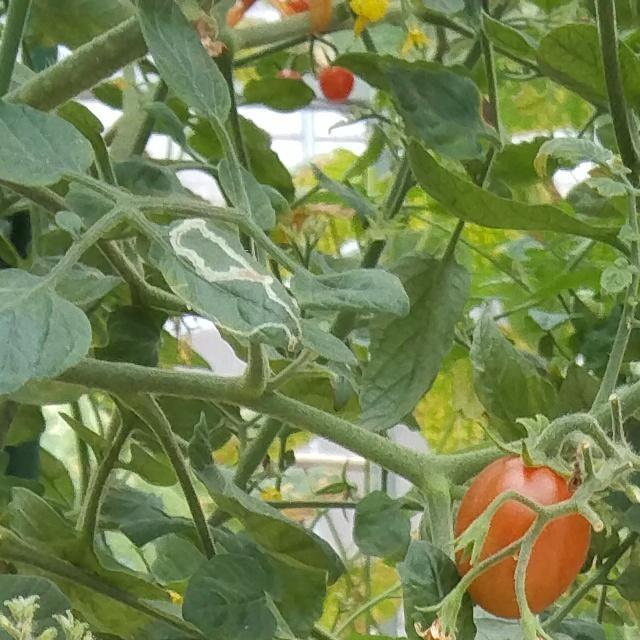Healthy: (358, 248, 473, 432), (123, 0, 237, 130), (171, 549, 278, 640)
Leaf_Miner: (145, 213, 305, 357)
